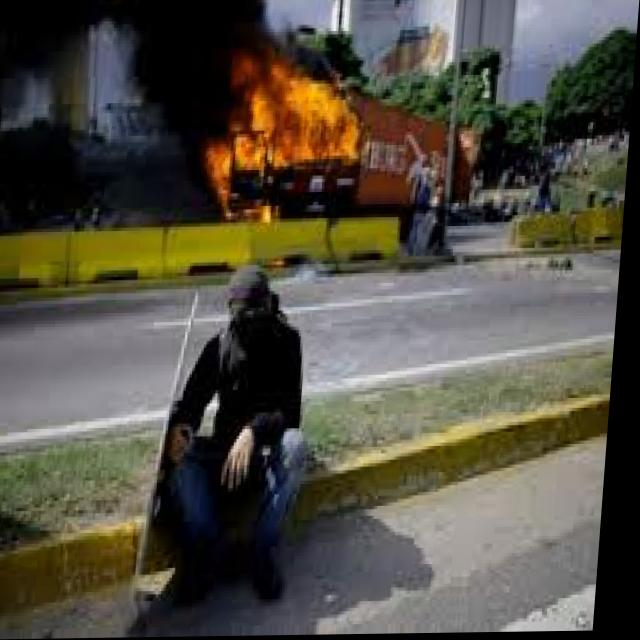fire: (199, 51, 375, 234)
